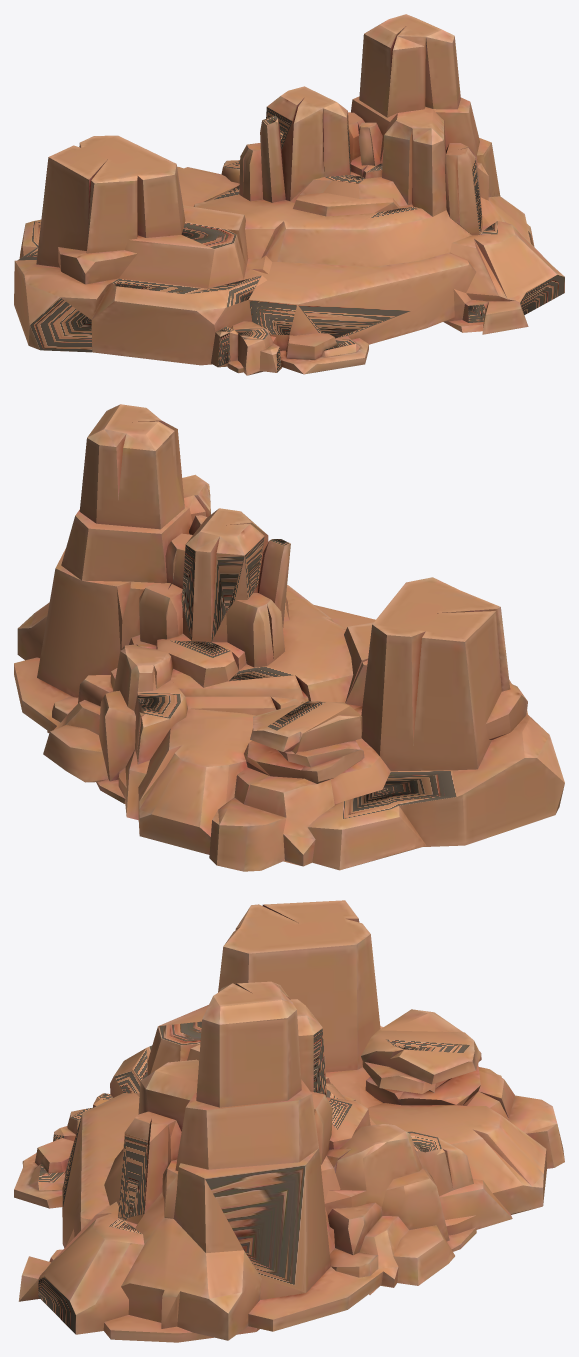
Rendered from desert-rock-03.glb.
The picture shows the model from 3 angles, top to bottom: view 1: azimuth 30°, elevation 25°; view 2: azimuth 150°, elevation 25°; view 3: azimuth 270°, elevation 25°; orthographic projection. The views are drawn at different scales.
Parts seen in each view (by area): view 1: Rock_1; view 2: Rock_1; view 3: Rock_1.
Boxes of the visible parts, box(x1,y1,x2,y2) form: Rock_1: box(14, 14, 564, 375); Rock_1: box(14, 404, 564, 871); Rock_1: box(14, 900, 564, 1342).
Size of the model in its own units: 8.31 by 4.1 by 6.73.
Materials: 1 (1 with a texture image).
